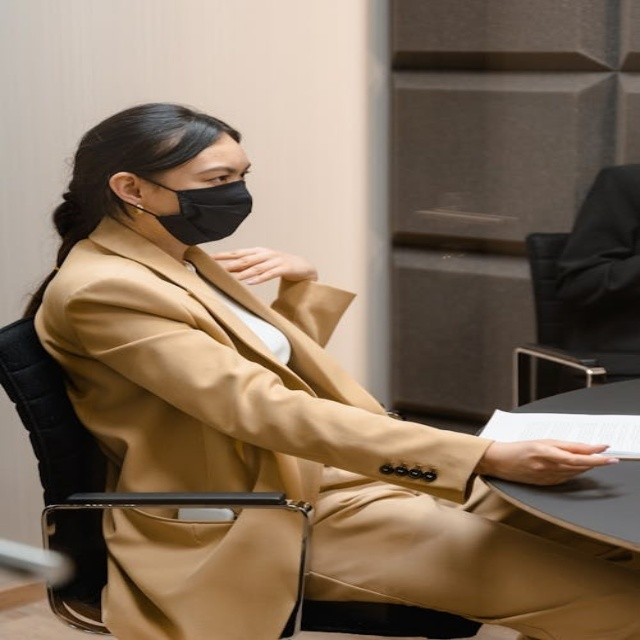Mascara: (136, 176, 250, 244)
Sin_gafas: (205, 175, 231, 183), (238, 169, 252, 181)
Sin_guantes: (484, 428, 620, 491), (207, 240, 319, 289)
